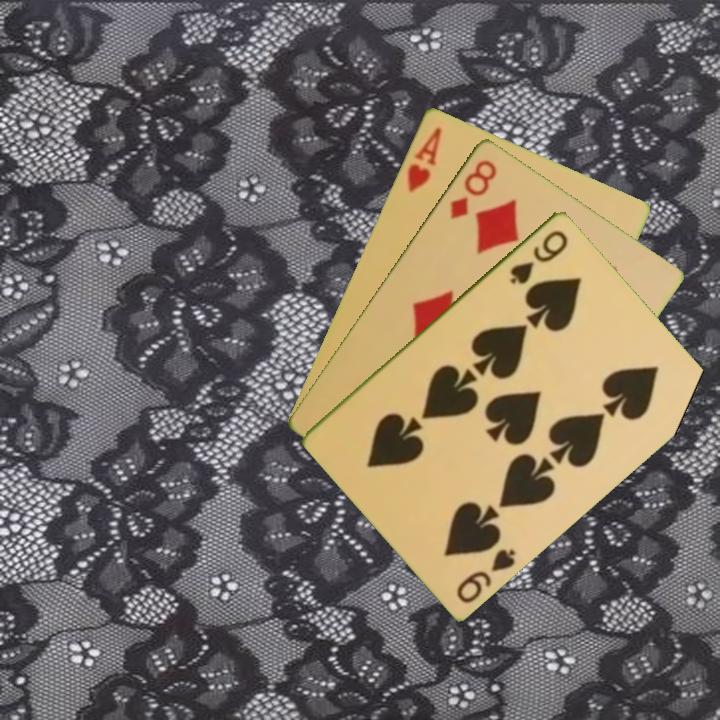8d: (446, 155, 500, 222)
9s: (452, 544, 519, 606), (506, 226, 571, 287)
Ah: (403, 123, 444, 195)
